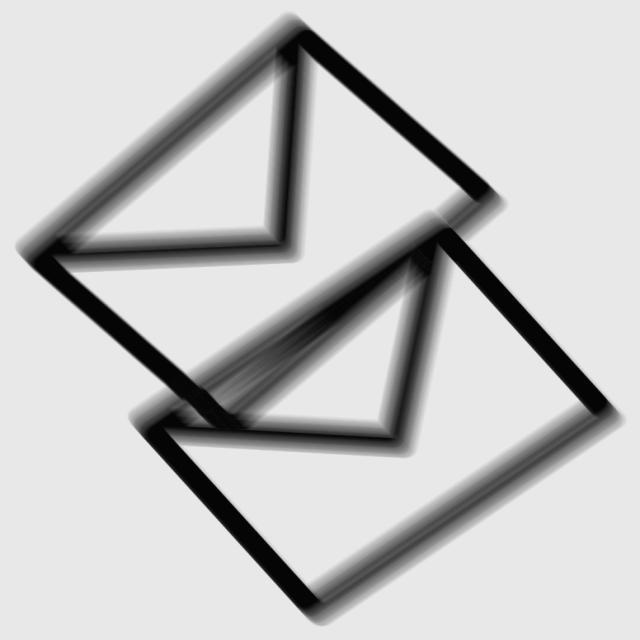letter: (2, 5, 524, 455), (114, 209, 640, 640)
